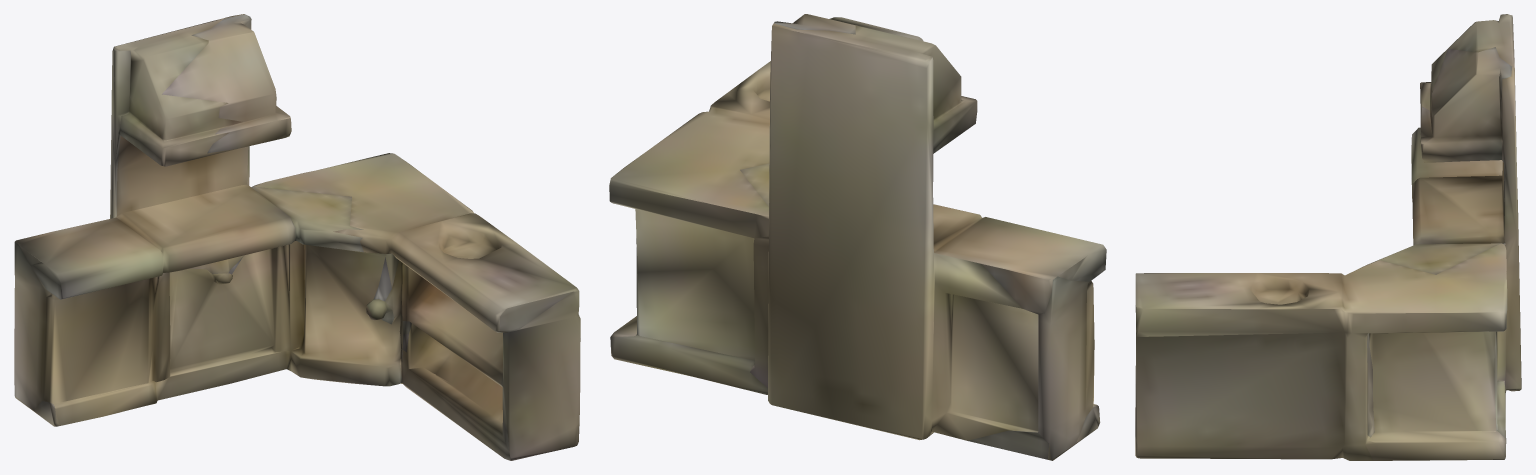
The model's file is KITCHEN_SET_CLASSIC_40HwCHfeG0H-medium.glb.
The picture shows the model from 3 angles, left to right: view 1: azimuth 30°, elevation 25°; view 2: azimuth 150°, elevation 25°; view 3: azimuth 270°, elevation 25°; orthographic projection. The views are drawn at different scales.
Parts seen in each view (by area): view 1: KITCHEN_SET_CLASSIC_40HwCHfeG0H; view 2: KITCHEN_SET_CLASSIC_40HwCHfeG0H; view 3: KITCHEN_SET_CLASSIC_40HwCHfeG0H.
Part boxes in pixels (<box>): KITCHEN_SET_CLASSIC_40HwCHfeG0H: <box>14,14,580,460</box>; KITCHEN_SET_CLASSIC_40HwCHfeG0H: <box>609,14,1106,460</box>; KITCHEN_SET_CLASSIC_40HwCHfeG0H: <box>1135,14,1521,460</box>.
Size of the model in its own units: 0.1854 by 0.1511 by 0.1671.
Materials: 1 (1 with a texture image).
